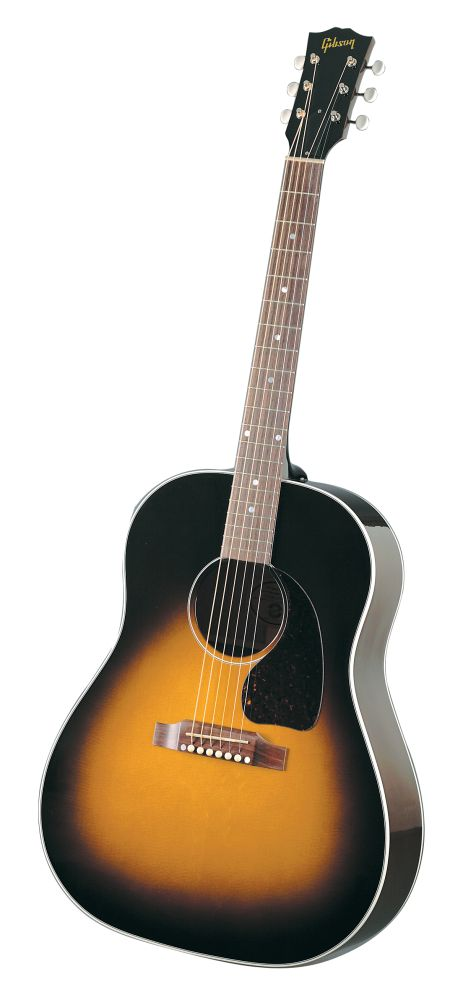guitar: (38, 24, 426, 970)
